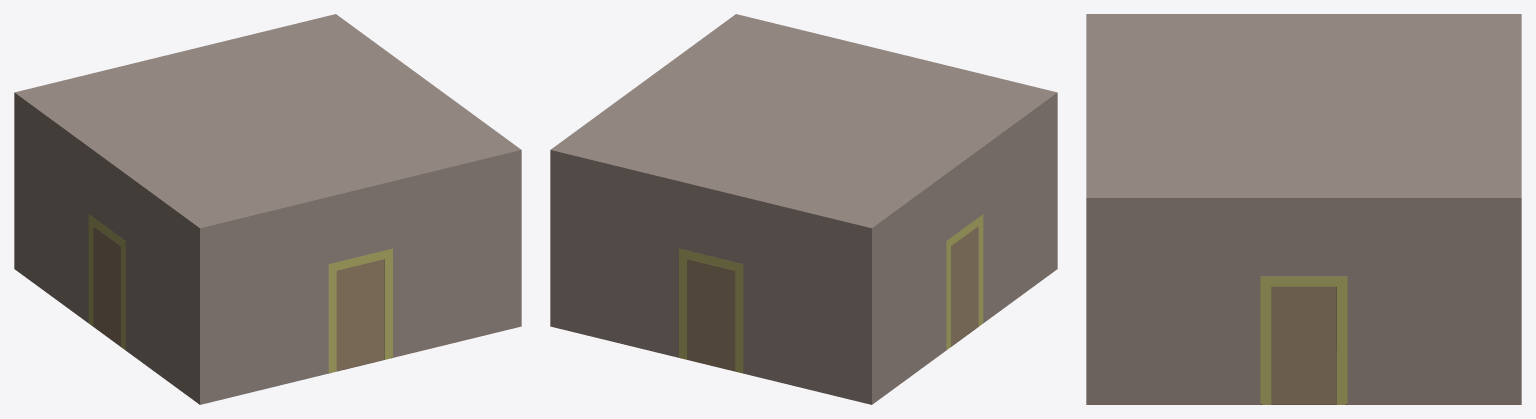
The model's file is Room01_AbandonedRoom.fbx.
3 renders of one model, left to right at view 1: azimuth 30°, elevation 25°; view 2: azimuth 150°, elevation 25°; view 3: azimuth 270°, elevation 25°, orthographic. The views are drawn at different scales.
Parts seen in each view (by area): view 1: Roof, WallSlicedPosZ, WallSlicedPosX, DoorPosZ, DoorPosX, DoorFramePosZ, DoorFramePosX, WallSlicedNegX, WallSlicedNegZ; view 2: Roof, WallSlicedNegZ, WallSlicedPosX, DoorNegZ, DoorPosX, DoorFrameNegZ, DoorFramePosX, WallSlicedPosZ, WallSlicedNegX; view 3: Roof, WallSlicedNegX, DoorNegX, DoorFrameNegX, WallSlicedNegZ, WallSlicedPosZ, WallSlicedPosX.
Boxes of the visible parts, <box> form: Roof: <box>17,15,518,227</box>; WallSlicedPosZ: <box>198,149,521,404</box>; WallSlicedPosX: <box>14,92,201,403</box>; DoorPosZ: <box>336,259,384,370</box>; DoorPosX: <box>93,226,120,346</box>; DoorFramePosZ: <box>328,248,392,372</box>; DoorFramePosX: <box>88,214,125,349</box>; WallSlicedNegX: <box>336,14,521,326</box>; WallSlicedNegZ: <box>14,14,336,269</box>; Roof: <box>553,15,1054,227</box>; WallSlicedNegZ: <box>550,149,873,404</box>; WallSlicedPosX: <box>869,92,1056,404</box>; DoorNegZ: <box>687,259,735,370</box>; DoorPosX: <box>951,226,978,346</box>; DoorFrameNegZ: <box>679,248,743,372</box>; DoorFramePosX: <box>946,214,983,349</box>; WallSlicedPosZ: <box>735,14,1057,269</box>; WallSlicedNegX: <box>550,14,735,326</box>; Roof: <box>1088,14,1519,197</box>; WallSlicedNegX: <box>1086,197,1521,404</box>; DoorNegX: <box>1271,286,1336,404</box>; DoorFrameNegX: <box>1260,276,1347,404</box>; WallSlicedNegZ: <box>1518,14,1521,404</box>; WallSlicedPosZ: <box>1086,14,1089,404</box>; WallSlicedPosX: <box>1088,14,1521,14</box>.
Bounding box in the file's own units: 100 × 52.5 × 100.
